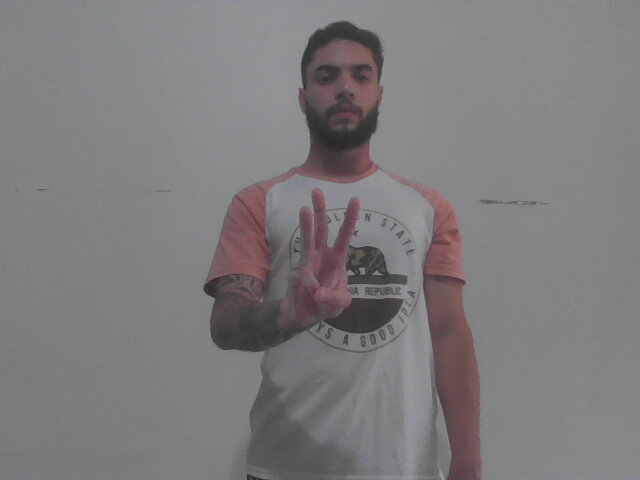w: (283, 185, 363, 333)
